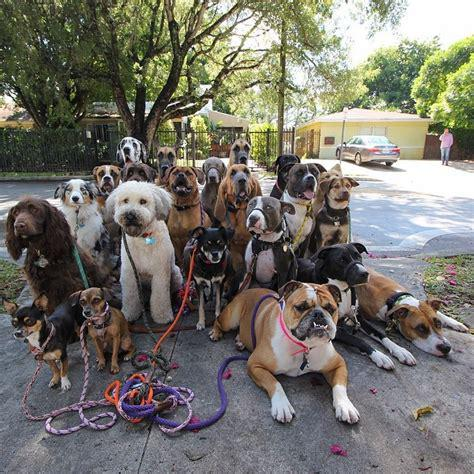dog: (209, 281, 359, 423), (297, 243, 416, 370), (7, 197, 112, 313), (106, 181, 183, 323), (361, 266, 467, 358), (1, 294, 88, 389), (69, 288, 134, 372), (55, 179, 111, 270), (244, 195, 296, 287), (188, 226, 234, 329), (165, 164, 210, 259), (216, 164, 261, 247), (283, 163, 327, 237), (319, 178, 359, 244), (200, 157, 226, 212), (154, 137, 181, 176), (116, 137, 147, 166), (93, 165, 121, 196), (229, 129, 252, 165), (123, 164, 157, 183)
